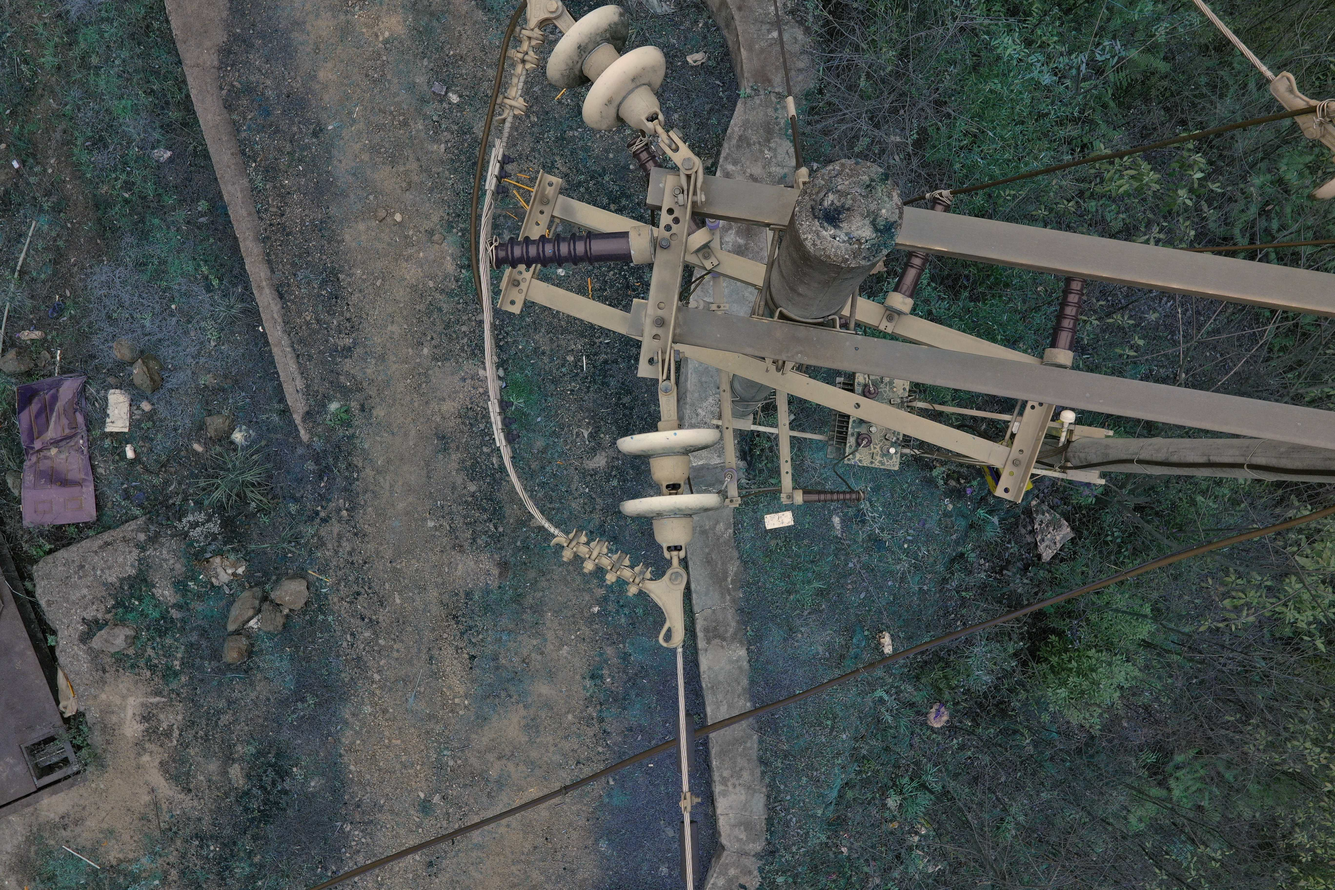severe_soiling_no_discharge_whole: (612, 418, 735, 561), (541, 3, 673, 135)
